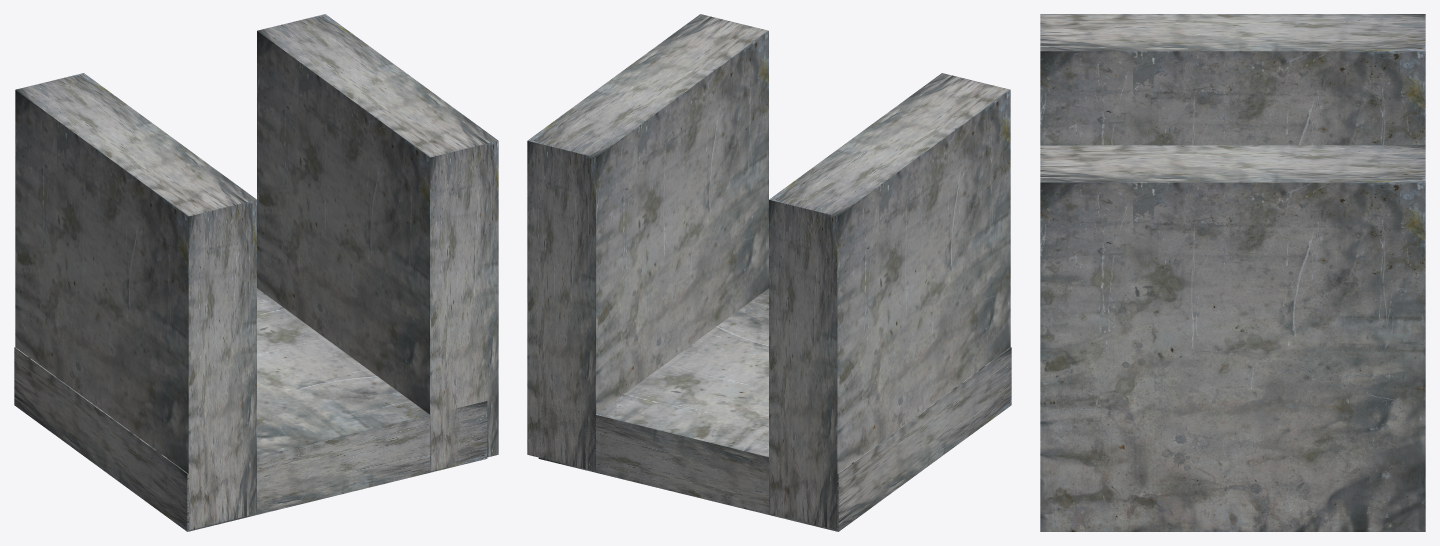
File: Lueftungsschacht_01NEU.fbx
3 renders of one model, left to right at view 1: azimuth 30°, elevation 25°; view 2: azimuth 150°, elevation 25°; view 3: azimuth 270°, elevation 25°, orthographic. The views are drawn at different scales.
Parts seen in each view (by area): view 1: pCube26; view 2: pCube26; view 3: pCube26.
Boxes of the visible parts, x1,y1,x2,y2 form: pCube26: (14,14,498,531); pCube26: (527,14,1011,531); pCube26: (1040,14,1425,531).
Bounding box in the file's own units: 18.16 × 17.57 × 17.5.
Materials: 1 (1 with a texture image).
